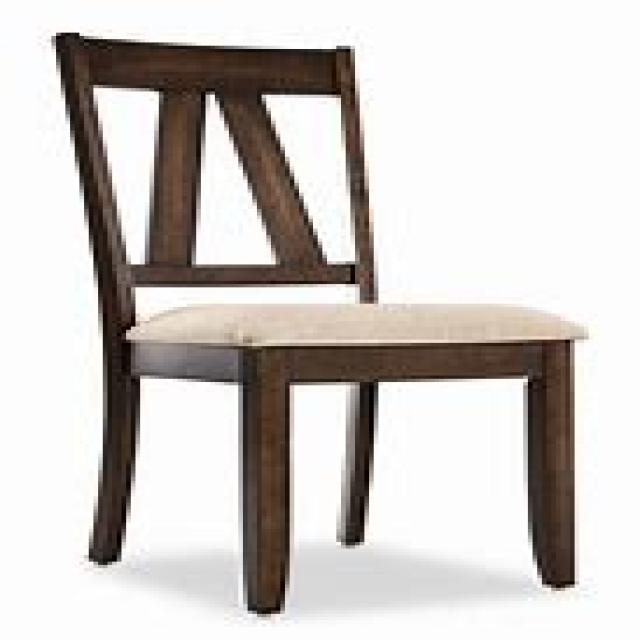chair: (46, 29, 588, 614)
